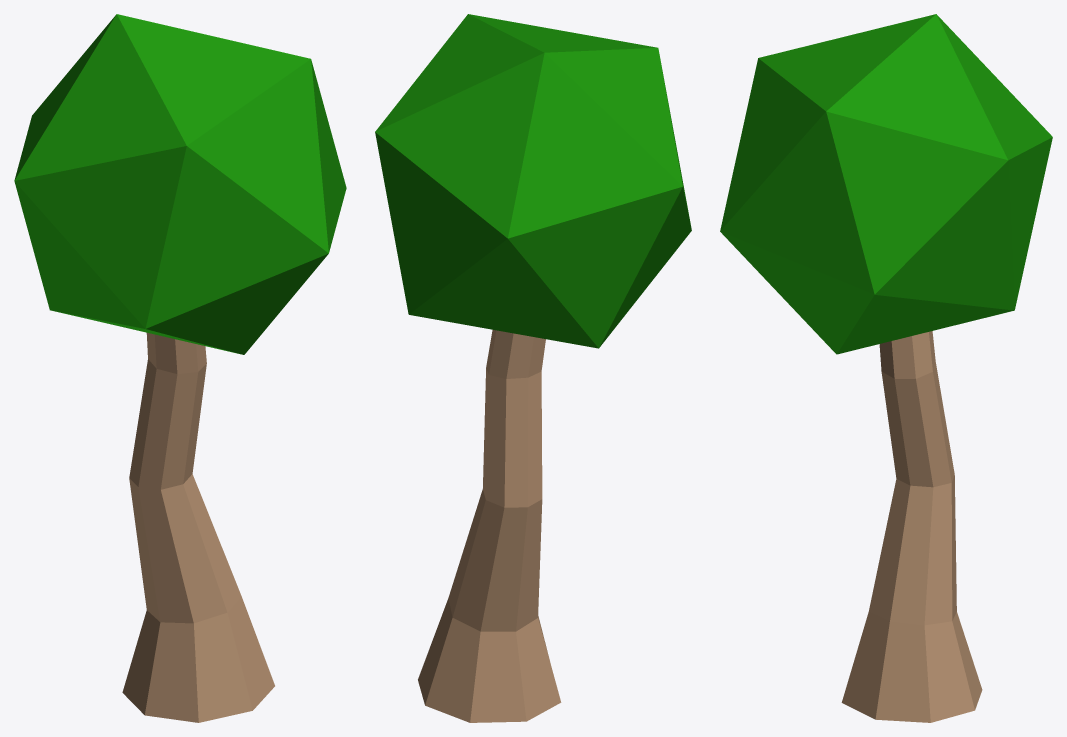
Rendered from tree2.fbx.
3 renders of one model, left to right at view 1: azimuth 30°, elevation 25°; view 2: azimuth 150°, elevation 25°; view 3: azimuth 270°, elevation 25°, orthographic. The views are drawn at different scales.
Visible parts, largest first — view 1: Icosphere; view 2: Icosphere; view 3: Icosphere.
Boxes of the visible parts, x1,y1,x2,y2 form: Icosphere: (14, 14, 346, 722); Icosphere: (375, 14, 691, 722); Icosphere: (720, 14, 1052, 722).
Size of the model in its own units: 227 by 464 by 214.
